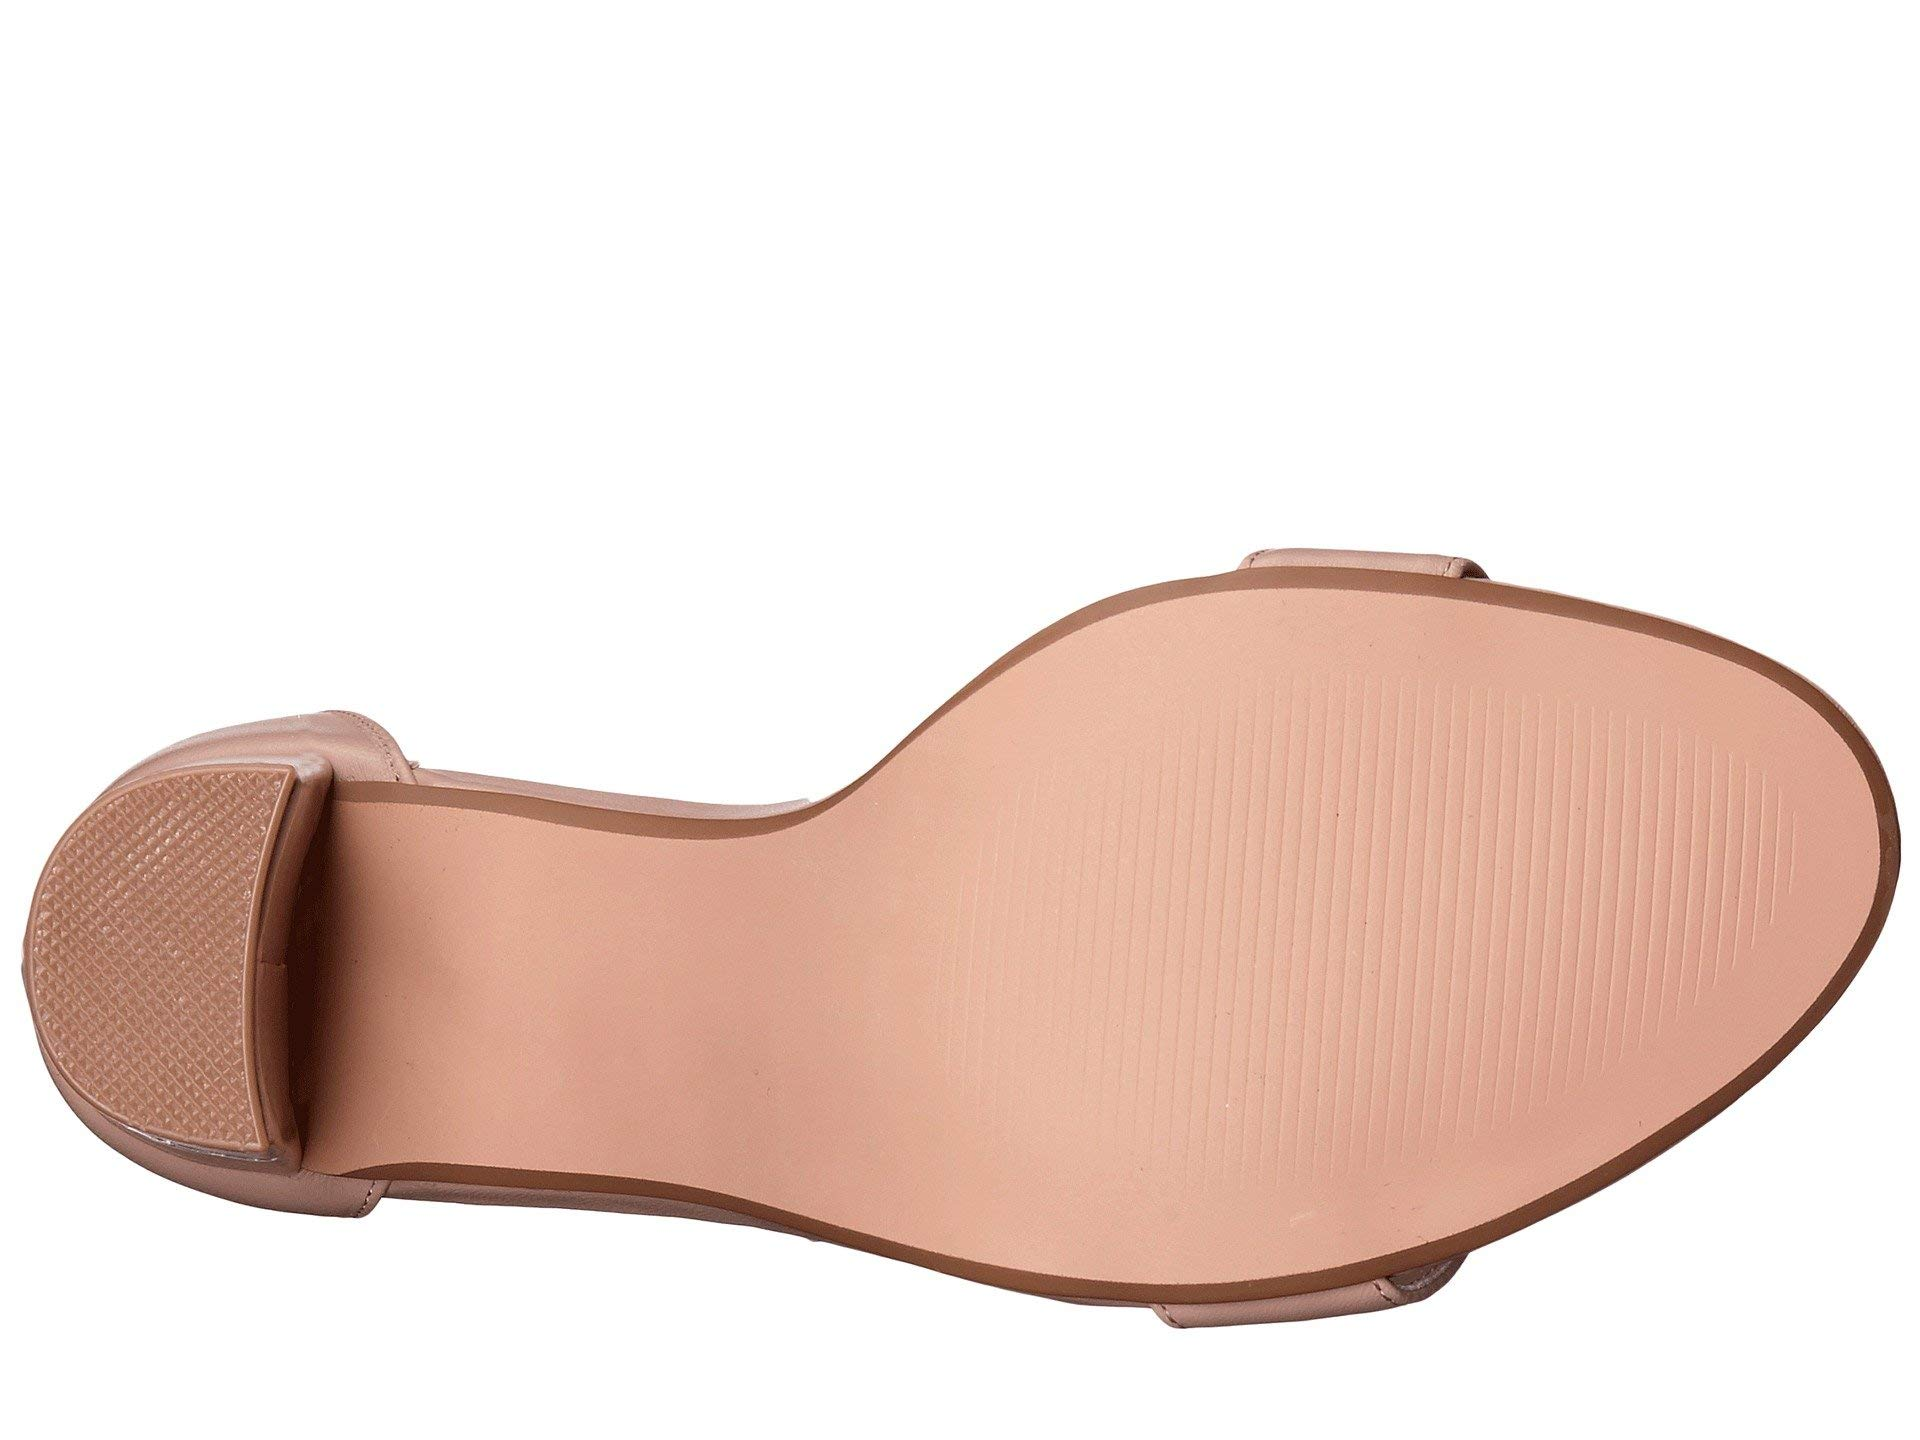line: (1126, 699, 1586, 1029)
quad: (98, 815, 237, 1101)
